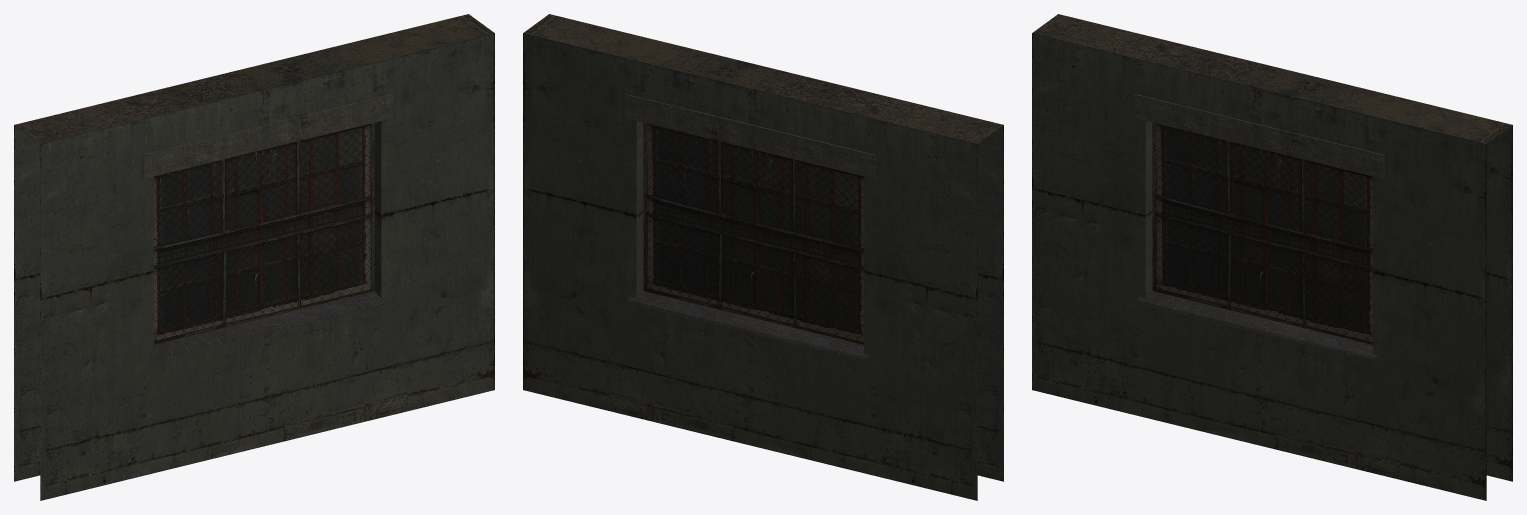
Rendered from window_rg_1.obj.
3 renders of one model, left to right at view 1: azimuth 30°, elevation 25°; view 2: azimuth 150°, elevation 25°; view 3: azimuth 330°, elevation 25°, orthographic.
Parts seen in each view (by area): view 1: window_rg_1; view 2: window_rg_1; view 3: window_rg_1.
Part boxes in pixels (box(x1,y1,x2,y2)): window_rg_1: box(14, 14, 494, 500); window_rg_1: box(523, 14, 1003, 500); window_rg_1: box(1032, 14, 1512, 500).
Bounding box in the file's own units: 4 × 3 × 0.51.
